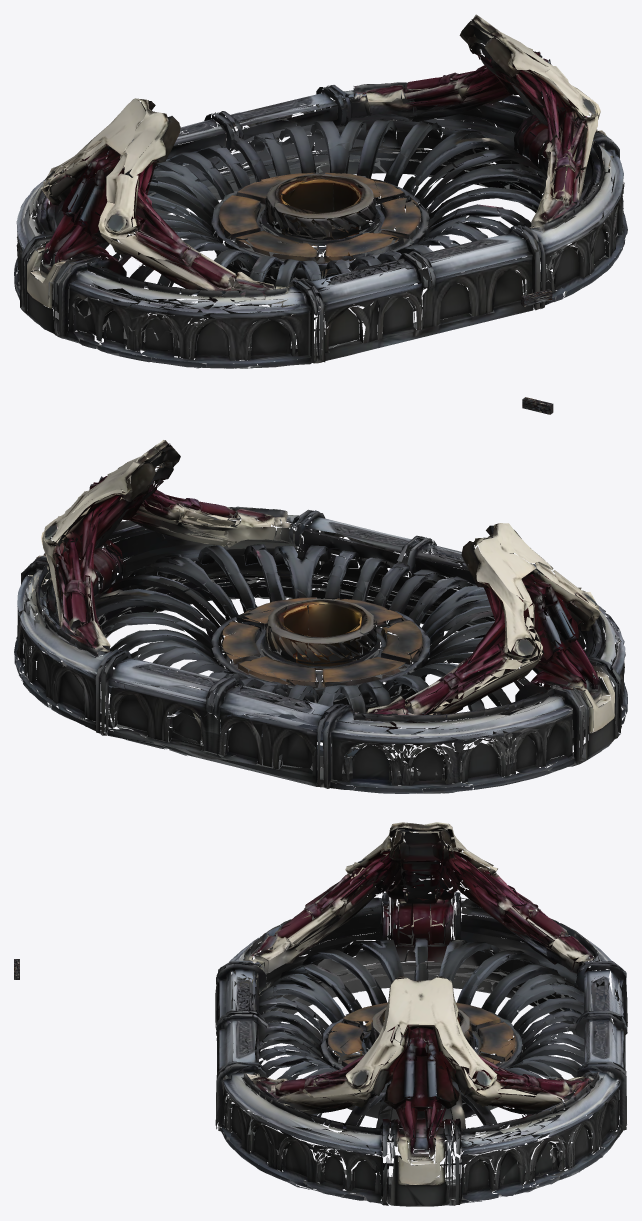
The model's file is meridian_probe_return_catchframe.glb.
The picture shows the model from 3 angles, top to bottom: view 1: azimuth 30°, elevation 25°; view 2: azimuth 150°, elevation 25°; view 3: azimuth 270°, elevation 25°; orthographic projection. The views are drawn at different scales.
Parts seen in each view (by area): view 1: node_0; view 2: node_0; view 3: node_0.
Part boxes in pixels (x1,y1,x2,y2): node_0: [14, 14, 627, 368]; node_0: [14, 440, 627, 793]; node_0: [215, 822, 627, 1206].
Bounding box in the file's own units: 1.15 × 0.3843 × 1.16.
Materials: 1 (1 with a texture image).
